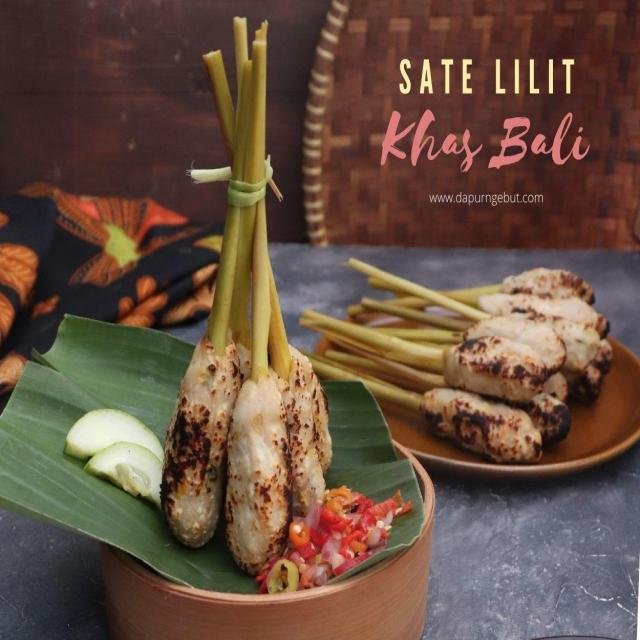Sate: (132, 66, 330, 530), (310, 245, 614, 463)
